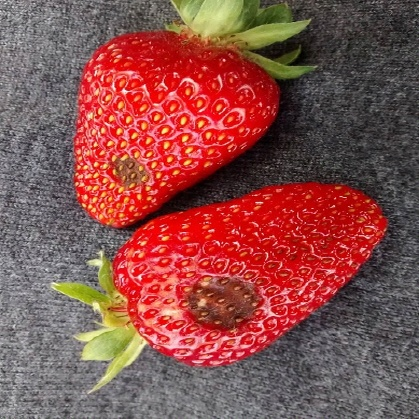Anthracnose_FR: (150, 86, 240, 306), (112, 184, 315, 266)
